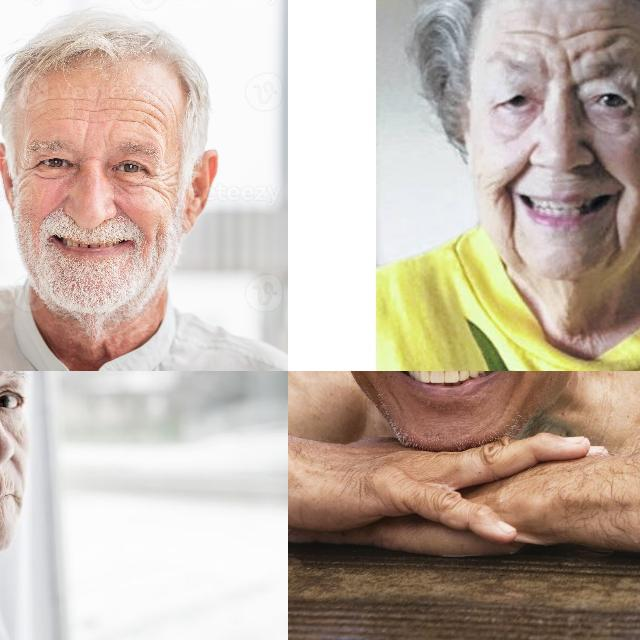chin: (0, 504, 10, 523)
crows_feet: (144, 170, 174, 192), (19, 162, 39, 184)
forehead: (564, 22, 626, 52), (114, 92, 156, 130), (496, 19, 552, 47), (76, 96, 100, 130), (33, 92, 65, 108)
frown_line: (536, 54, 578, 80), (82, 152, 101, 166)
gummy_smile: (588, 137, 630, 185), (501, 146, 533, 194), (113, 197, 135, 223), (48, 196, 70, 214)
sad_smile: (499, 195, 527, 257), (605, 200, 625, 254)
smoker_lines: (0, 472, 9, 489)
